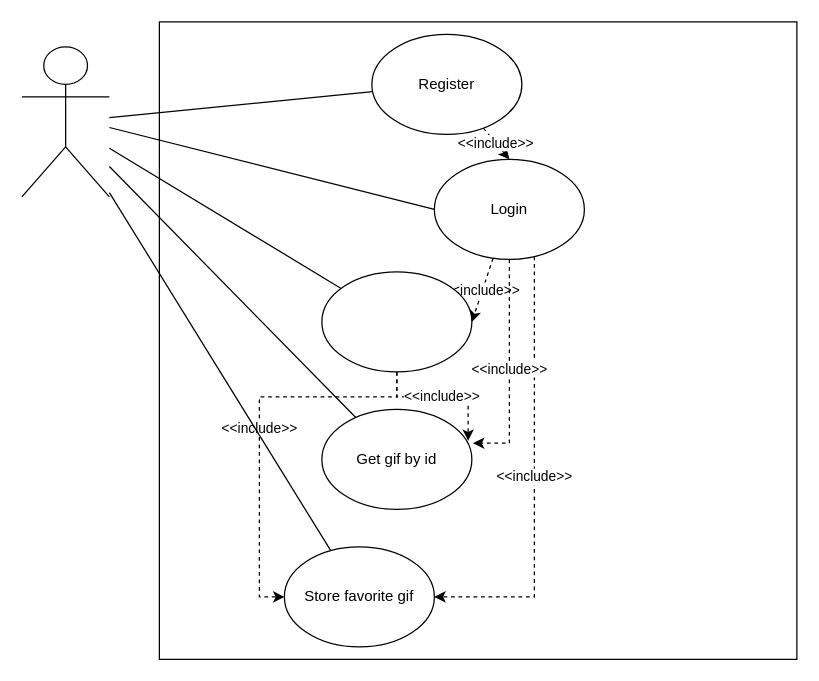
Image size: 819x681. Some labels were removed from this diagram. Here are the shapes that lost their labels. From the top down, the centre of each, then its label:
pixel 65 121: Actor
pixel 396 321: Get gifs
